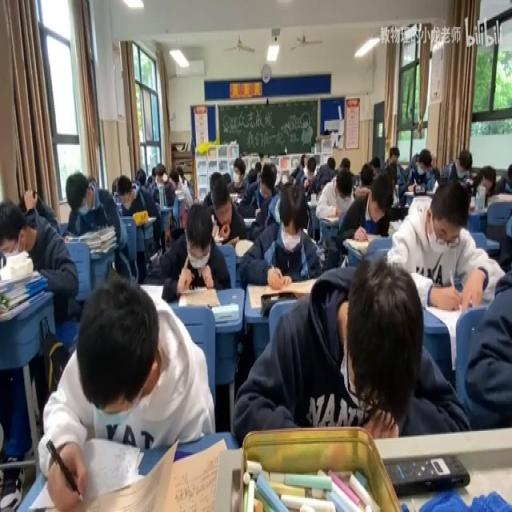calculator: (157, 436, 227, 510), (422, 298, 468, 362), (246, 276, 316, 306), (65, 224, 115, 254), (177, 286, 219, 308), (210, 300, 238, 322), (408, 194, 434, 216), (138, 282, 163, 302), (132, 209, 157, 226), (234, 236, 254, 256), (344, 238, 370, 253), (218, 232, 240, 246), (492, 192, 512, 202), (318, 213, 340, 222), (242, 214, 256, 228), (387, 219, 399, 235), (62, 232, 78, 242), (149, 250, 159, 264), (228, 192, 241, 202), (114, 198, 122, 214), (310, 193, 316, 202)
paper: (232, 254, 462, 440), (40, 266, 210, 509), (386, 179, 503, 313), (2, 192, 79, 327), (334, 171, 393, 256), (112, 170, 162, 268), (202, 174, 247, 246), (243, 164, 281, 238), (405, 148, 437, 195), (493, 196, 512, 272), (441, 148, 473, 186), (149, 164, 177, 206), (468, 164, 496, 204), (492, 164, 512, 196), (171, 192, 187, 228), (384, 146, 403, 176), (290, 155, 306, 183), (336, 171, 352, 199), (174, 164, 190, 189), (134, 166, 146, 190), (368, 155, 381, 176), (208, 172, 222, 191), (233, 158, 245, 180), (23, 209, 35, 229), (267, 164, 277, 186), (430, 165, 440, 183), (274, 200, 282, 222), (260, 154, 270, 170), (222, 171, 232, 186), (340, 156, 350, 170), (410, 151, 420, 165), (86, 175, 96, 188), (462, 175, 472, 188), (326, 155, 334, 169), (150, 165, 157, 181), (112, 178, 118, 196), (253, 161, 260, 175), (429, 155, 436, 168), (281, 174, 288, 184)
person: (386, 452, 470, 494)
